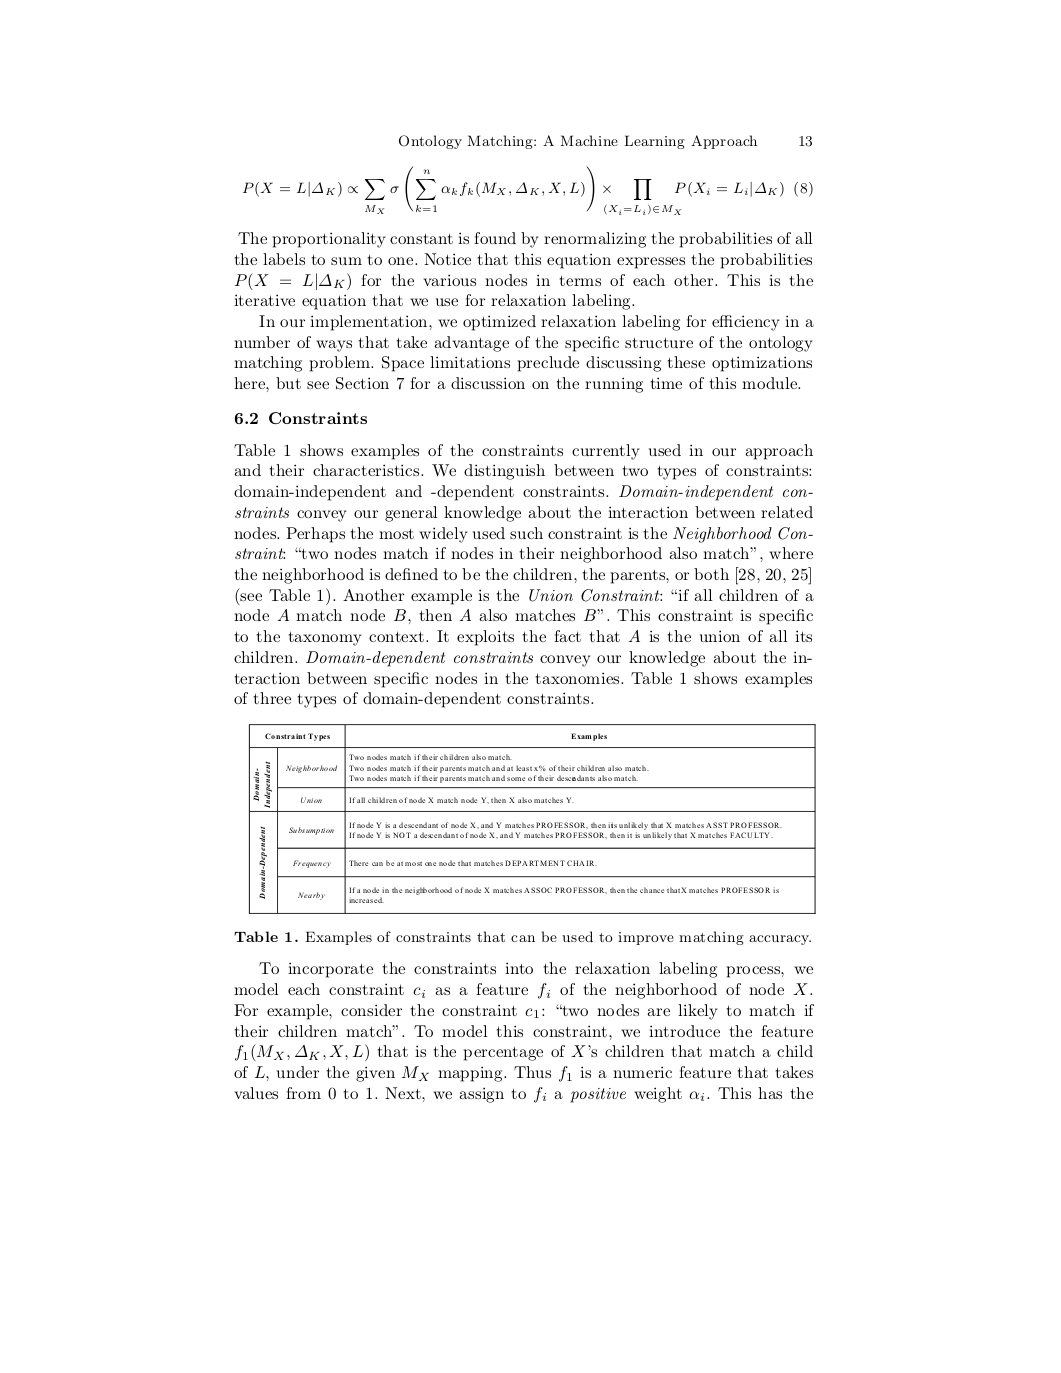Table: (249, 722, 815, 914)
formula: (242, 165, 812, 215)
